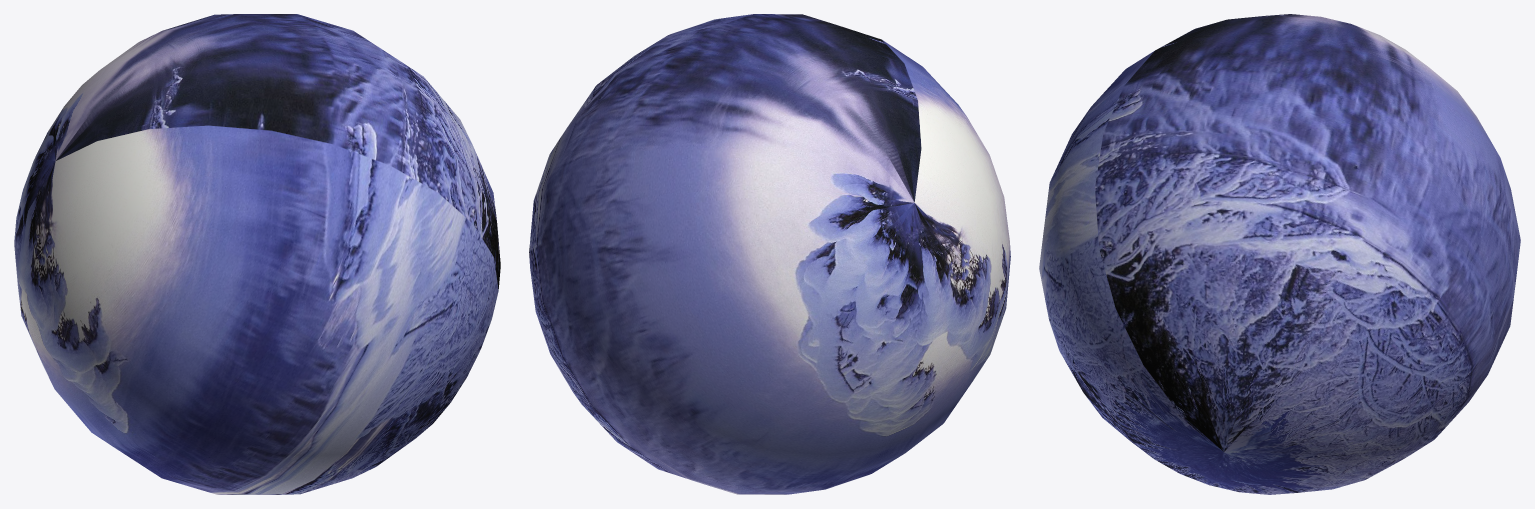
3 views of the same model, side by side, from view 1: azimuth 30°, elevation 25°; view 2: azimuth 150°, elevation 25°; view 3: azimuth 270°, elevation 25° (orthographic).
Visible parts, largest first — view 1: Sphere; view 2: Sphere; view 3: Sphere.
Boxes of the visible parts, x1,y1,x2,y2 form: Sphere: (14,14,500,494); Sphere: (529,14,1010,494); Sphere: (1039,14,1520,494).
Bounding box in the file's own units: 199 × 199 × 200.
1 material, 1 textured.
